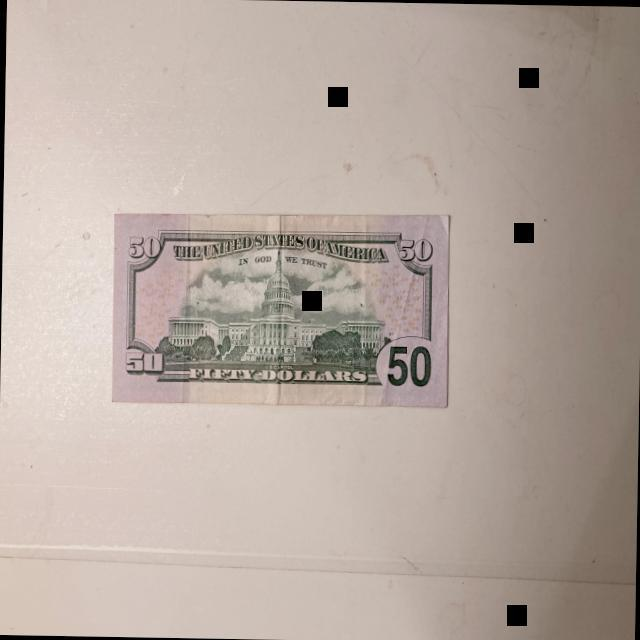fifty: (108, 207, 450, 409)
